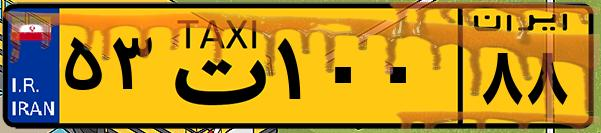0: (385, 28, 445, 110), (330, 28, 385, 110)
1: (270, 28, 330, 110)
3: (110, 28, 158, 98)
5: (57, 26, 110, 100)
8: (475, 38, 525, 113), (525, 38, 570, 115)
ت: (158, 12, 270, 120)
